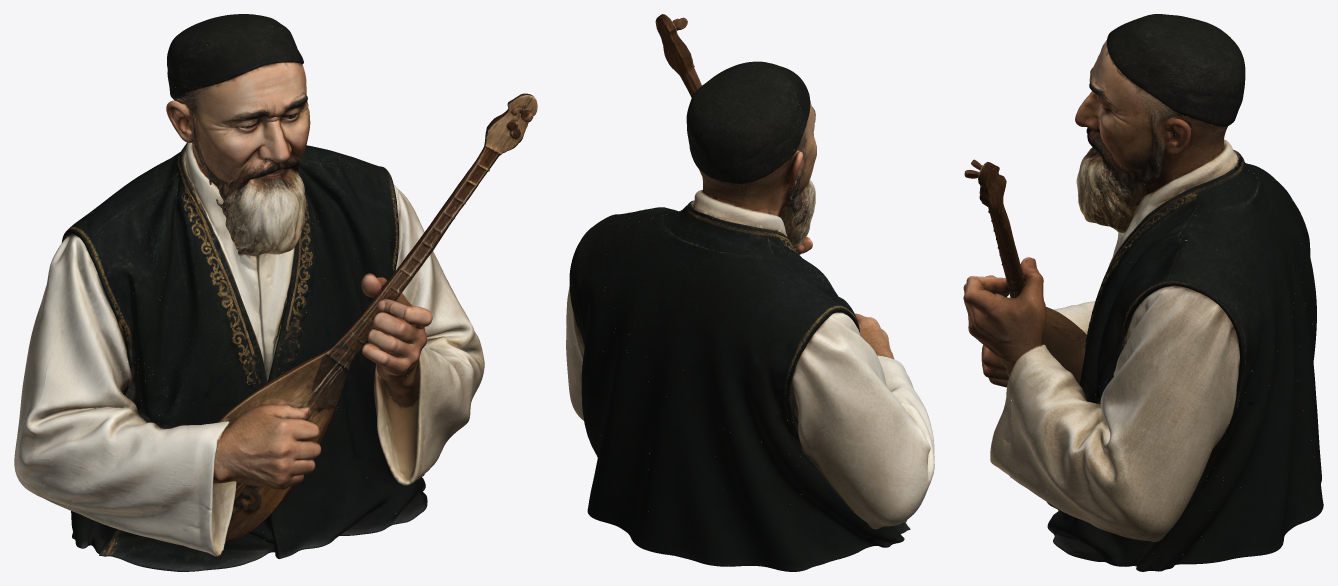
File: bukhar-zhyrau.glb
The picture shows the model from 3 angles, left to right: view 1: azimuth 30°, elevation 25°; view 2: azimuth 150°, elevation 25°; view 3: azimuth 270°, elevation 25°; orthographic projection. The views are drawn at different scales.
Visible parts, largest first — view 1: tripo_node_2dc3de30-7f28-414e-8e79-083f63fc980c; view 2: tripo_node_2dc3de30-7f28-414e-8e79-083f63fc980c; view 3: tripo_node_2dc3de30-7f28-414e-8e79-083f63fc980c.
Boxes of the visible parts, x1,y1,x2,y2 form: tripo_node_2dc3de30-7f28-414e-8e79-083f63fc980c: (14,14,537,571); tripo_node_2dc3de30-7f28-414e-8e79-083f63fc980c: (566,14,934,571); tripo_node_2dc3de30-7f28-414e-8e79-083f63fc980c: (963,14,1323,571).
Bounding box in the file's own units: 0.898 × 0.9795 × 0.6808.
Materials: 1 (1 with a texture image).
